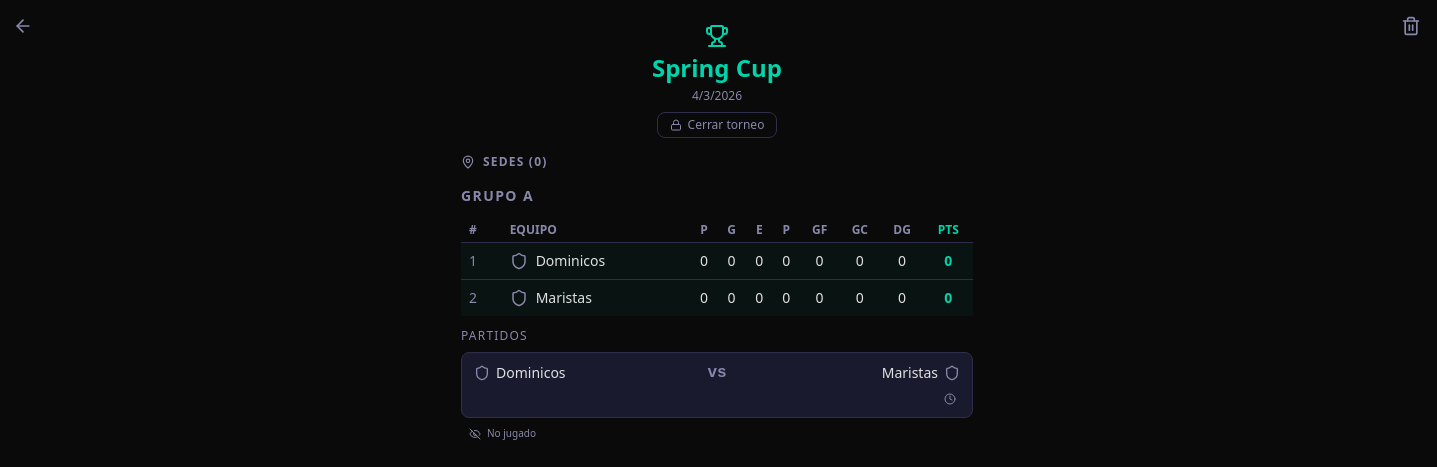
Test: TournamentPage › group match date edit › clicking date edit button reveals save and cancel controls
Click the button named "Editar fecha y hora" at x=950, y=399, box [940,389,960,409]
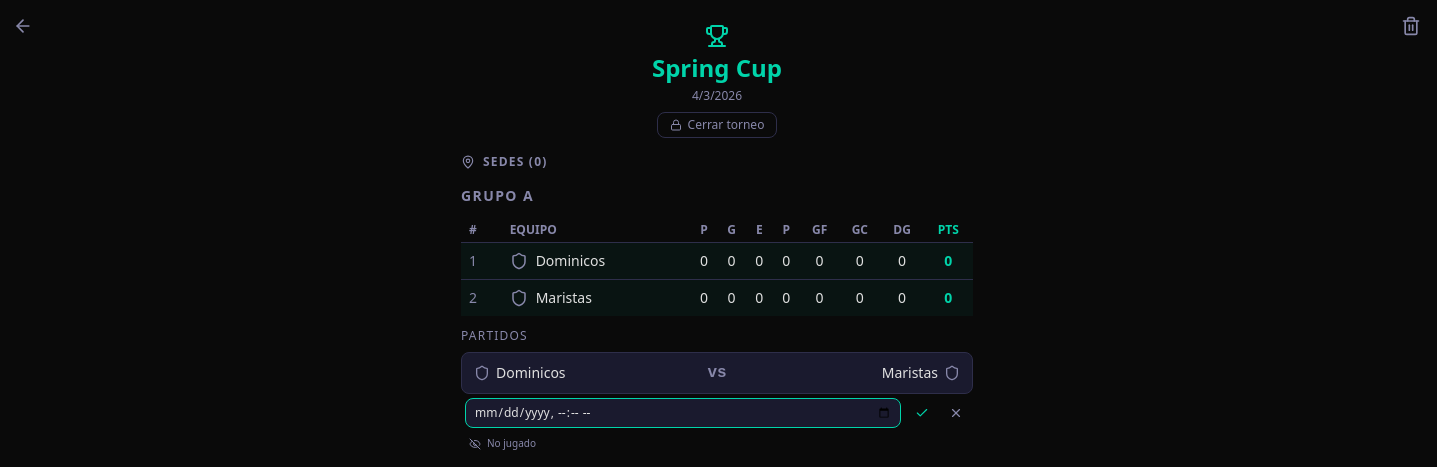
expect the button named "Guardar fecha" is shown: met, box [909,400,935,426]
expect the button named "Cancelar" is shown: met, box [943,400,969,426]
